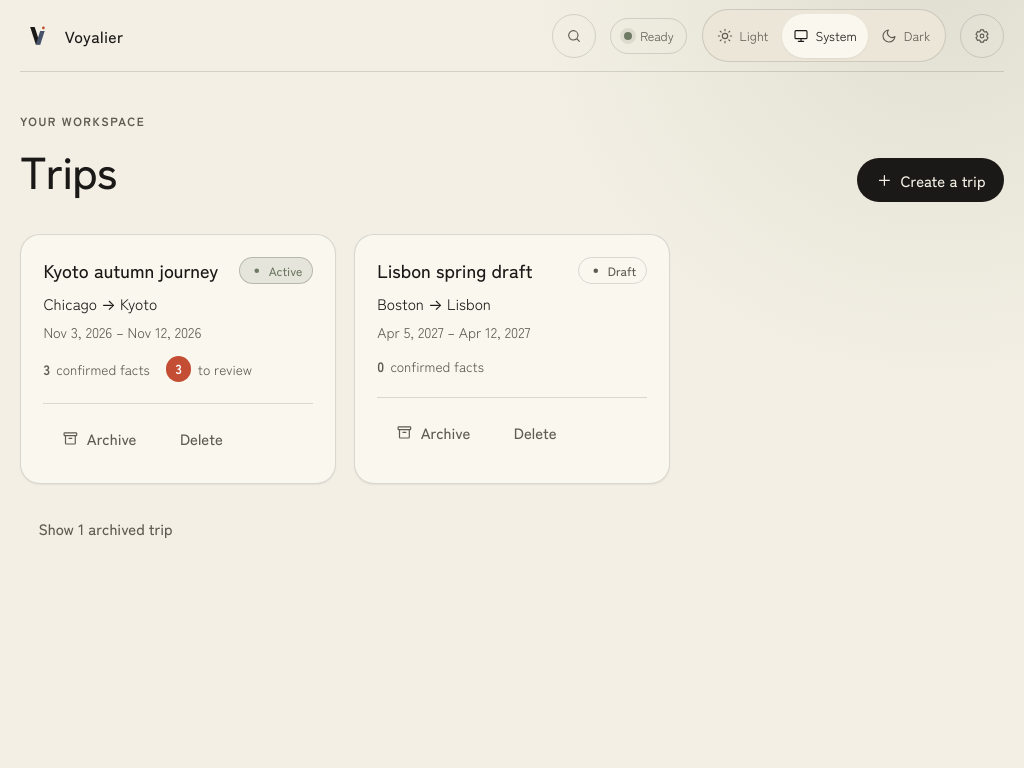
Test: readiness › links entry requirements to official sources without asserting them
Click the button with aria-label "Open Kyoto autumn journey" at coordinates (131, 270), box [43, 257, 218, 283]
(page scrolled)
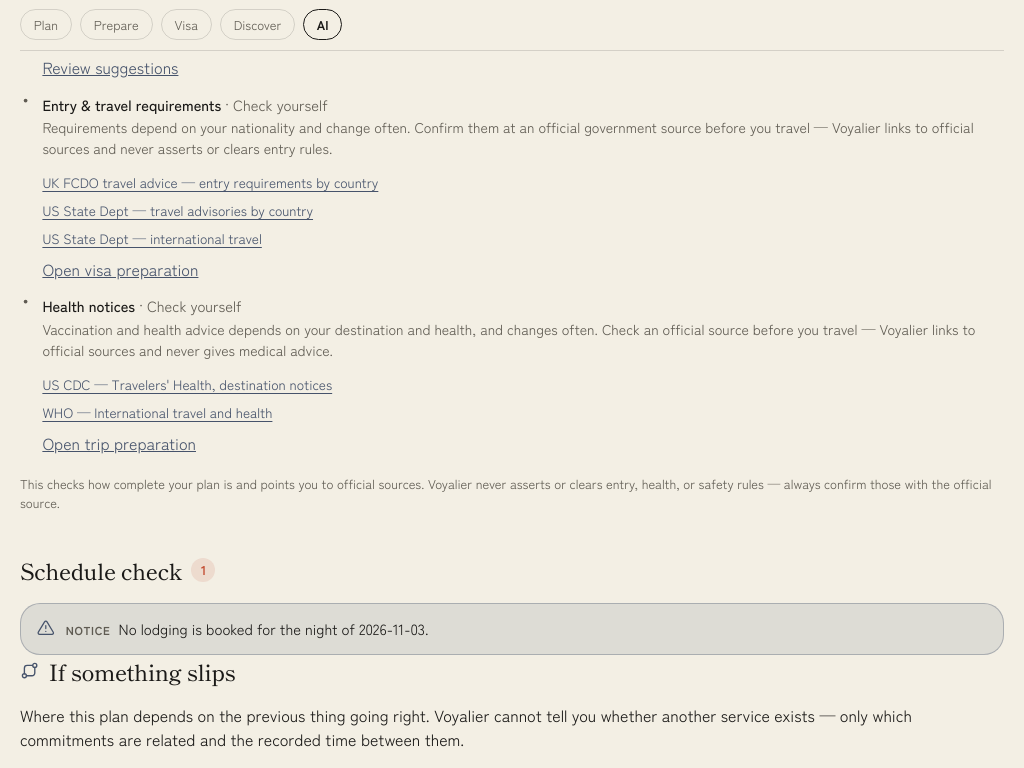
Now the text "Entry & travel requirements" is shown, box [42, 94, 221, 115]
Now the text "Health notices" is shown, box [42, 295, 135, 316]
Now the text "· Check yourself" is shown 2 times, box [221, 94, 327, 115]; [135, 295, 241, 316]
